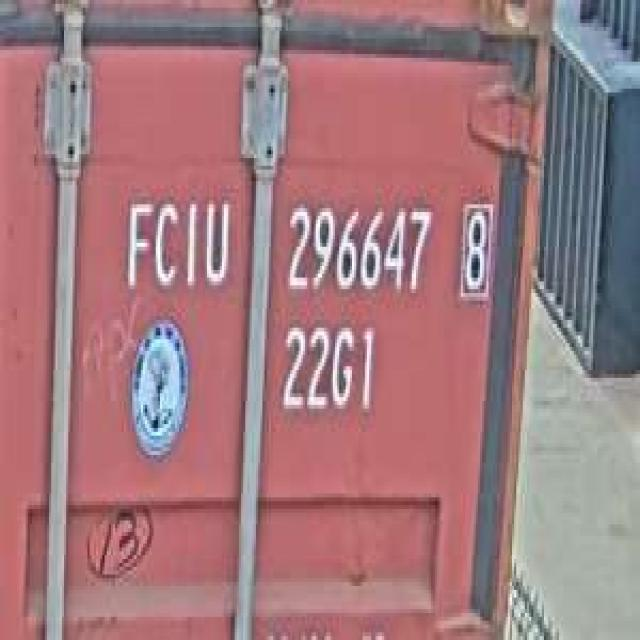dv: (454, 192, 495, 304)
owner: (120, 185, 232, 301)
serial: (280, 192, 438, 304)
size: (277, 312, 380, 424)
